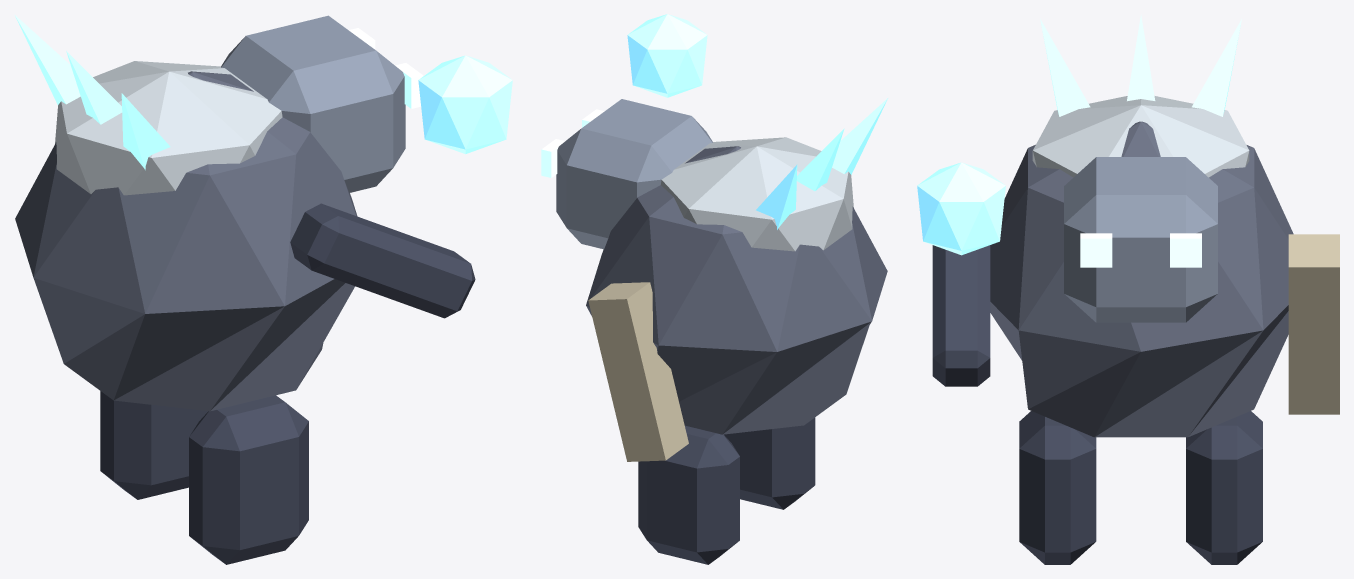
Rendered from hailer.glb.
3 renders of one model, left to right at view 1: azimuth 30°, elevation 25°; view 2: azimuth 150°, elevation 25°; view 3: azimuth 270°, elevation 25°, orthographic. The views are drawn at different scales.
Visible parts, largest first — view 1: hailer; view 2: hailer; view 3: hailer.
Boxes of the visible parts, x1,y1,x2,y2 form: hailer: (14,14,512,564); hailer: (541,14,887,564); hailer: (917,14,1339,564).
Bounding box in the file's own units: 0.6393 × 0.8153 × 0.6593.
